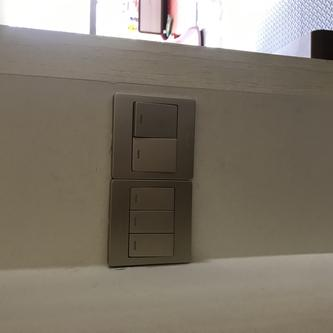switch: (126, 99, 183, 135), (131, 137, 183, 174), (125, 233, 180, 259), (128, 184, 176, 210), (127, 210, 179, 234)
